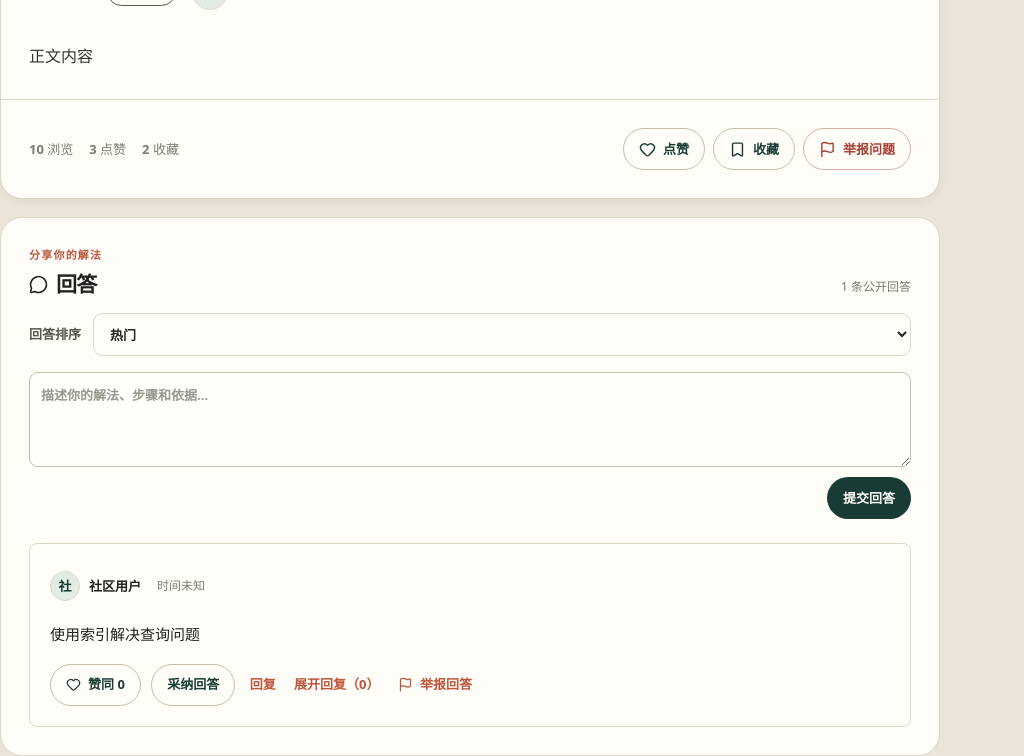
Scenario: ArticleDetail 问题与采纳 › 作者采纳后从详情回读状态并可取消
(page scrolled)
Click the button with aria-label "采纳回答 #101" at (193, 685), box x1=151 y1=664 x2=235 y2=706
(page scrolled)
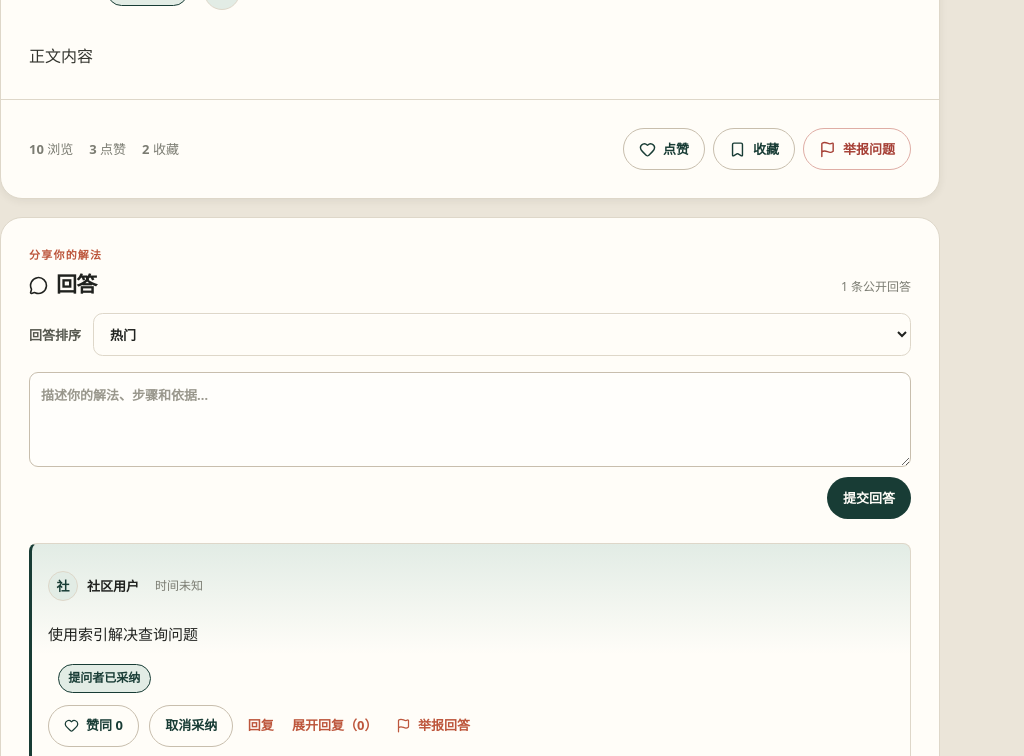
Expected: the text "提问者已采纳" is shown, x1=58 y1=664 x2=151 y2=693
Click the button with aria-label "取消采纳回答 #101" at (191, 726), box x1=149 y1=705 x2=233 y2=747
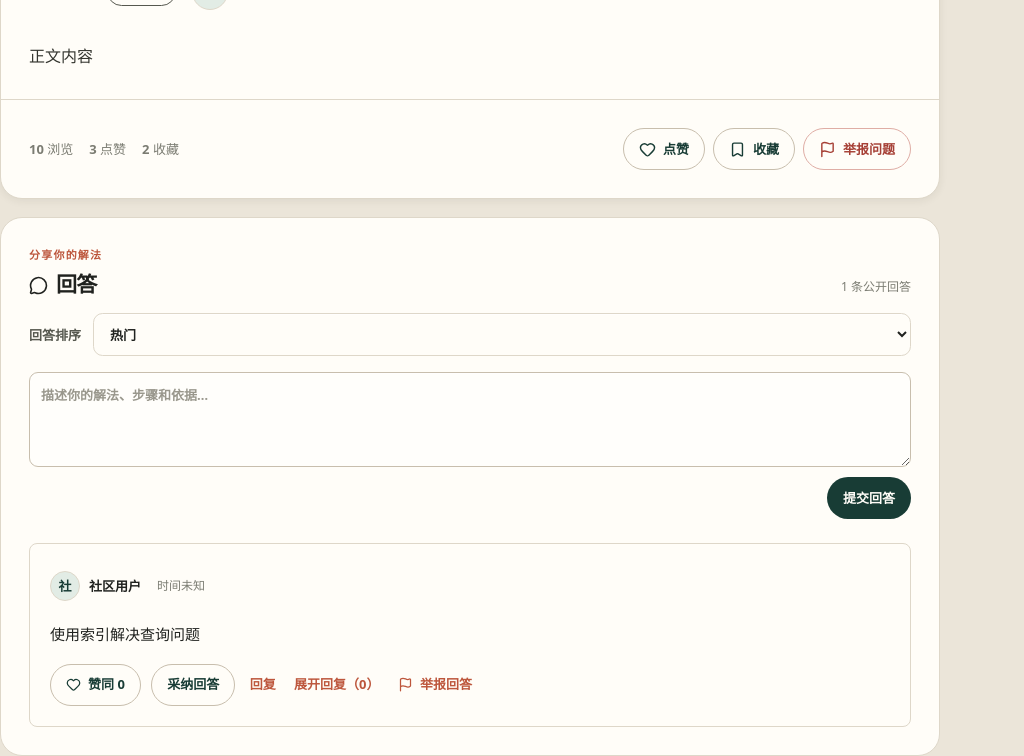
Expected: the text "提问者已采纳" is gone
